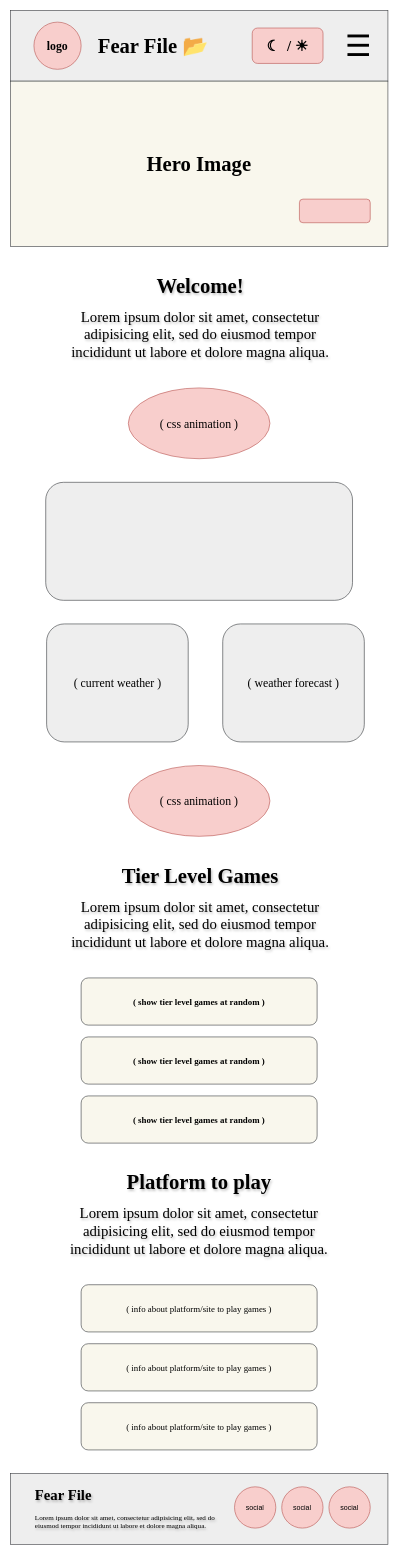
Image size: 398x1555. Some labels were removed from this diagram. Each missing label, with the centre of its shape:
"( club events )" belongs at (199,541).
"Join Us!" belongs at (334,211).
